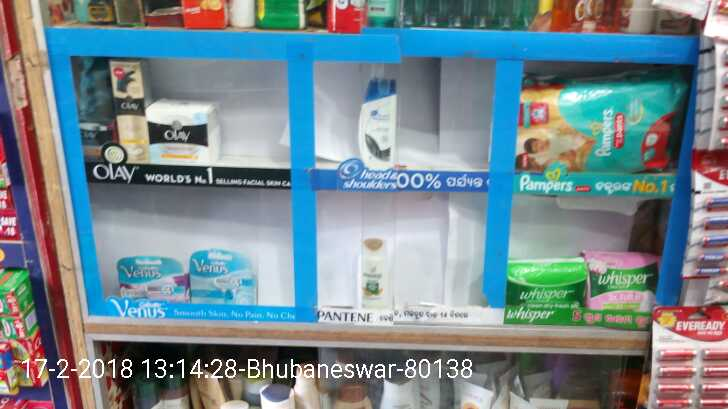venus: (117, 255, 191, 302), (191, 251, 253, 302)
